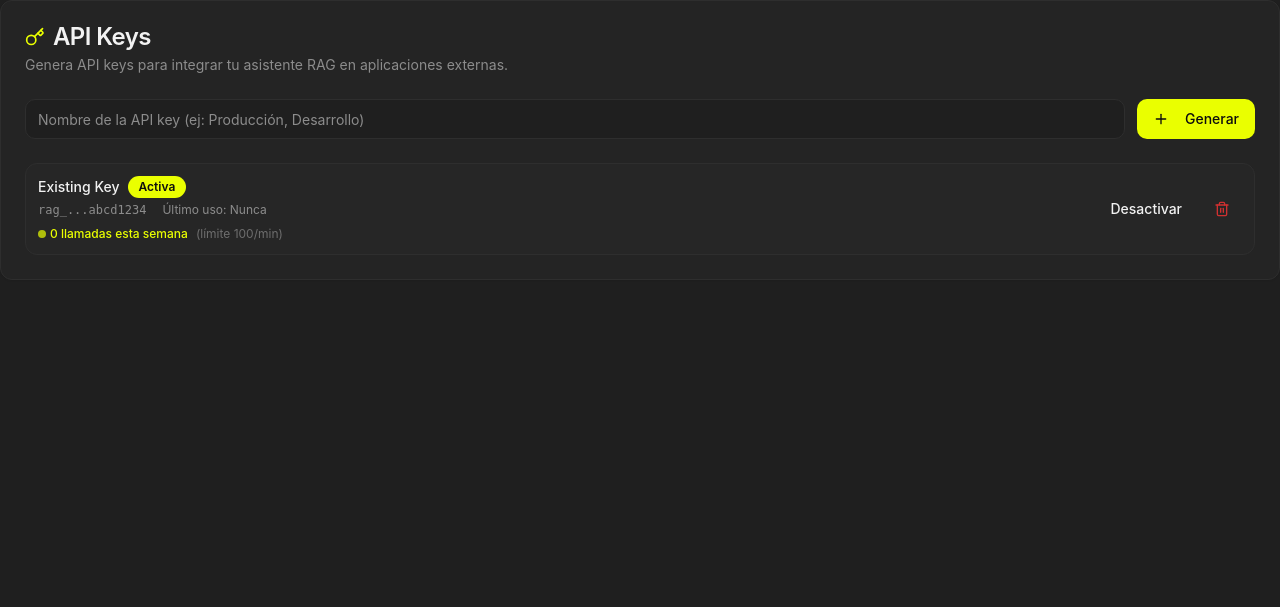
Test: ApiKeysManager - regression: key ↔ project binding › crea la nueva key ligada al project_id y user_id, y muestra la key cruda una sola vez
Expected: the text "Existing Key" is shown, [38, 177, 120, 197]
Type "Prueba Test" into the field with placeholder "Nombre de la API key (ej: Producción, Desarrollo)" at (575, 119), box [25, 99, 1125, 139]
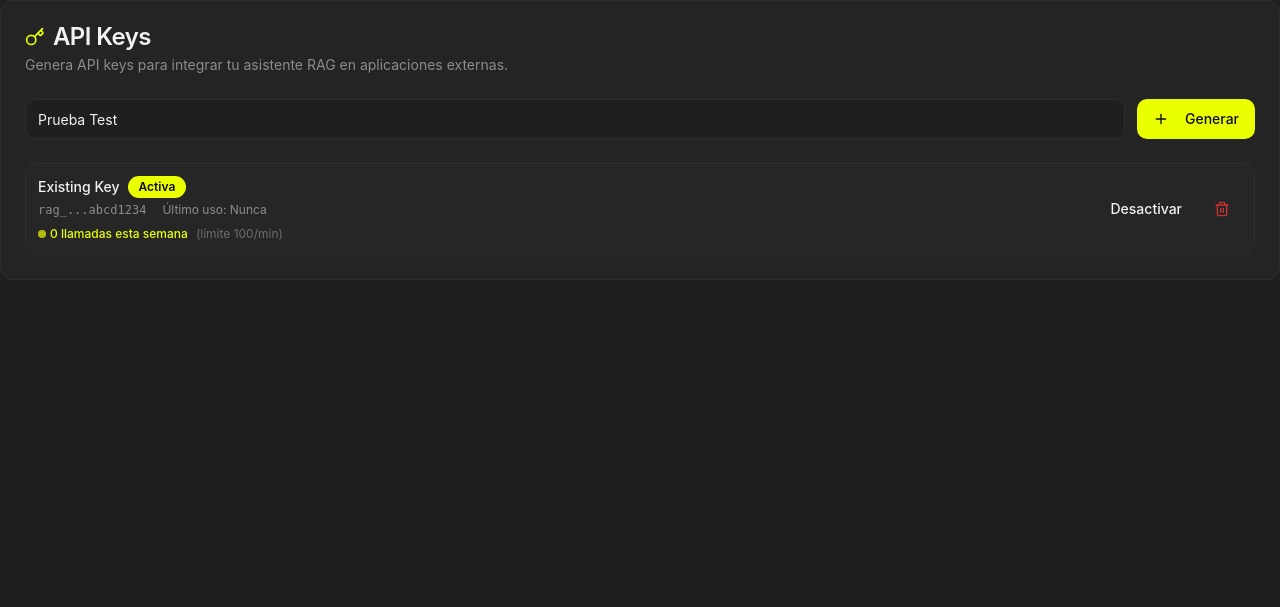
Click the button "Generar" at (1196, 119), box [1137, 99, 1255, 139]
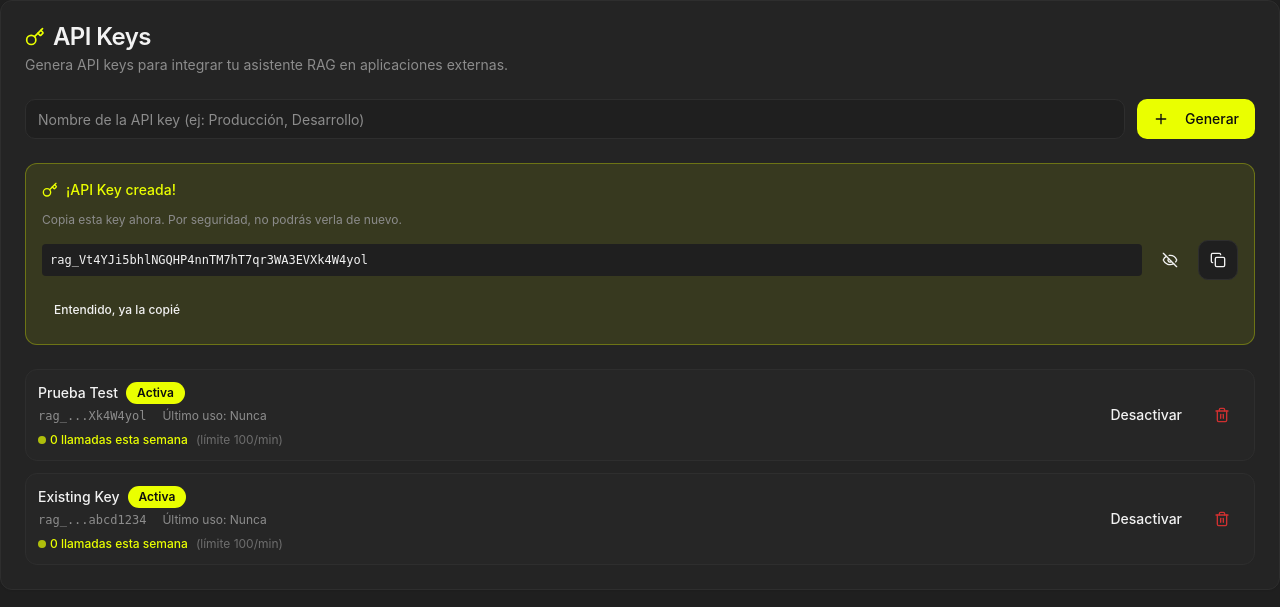
Now the text "Prueba Test" is shown, box [38, 383, 118, 403]
Now the text "¡API Key creada!" is shown, box [66, 180, 176, 200]
